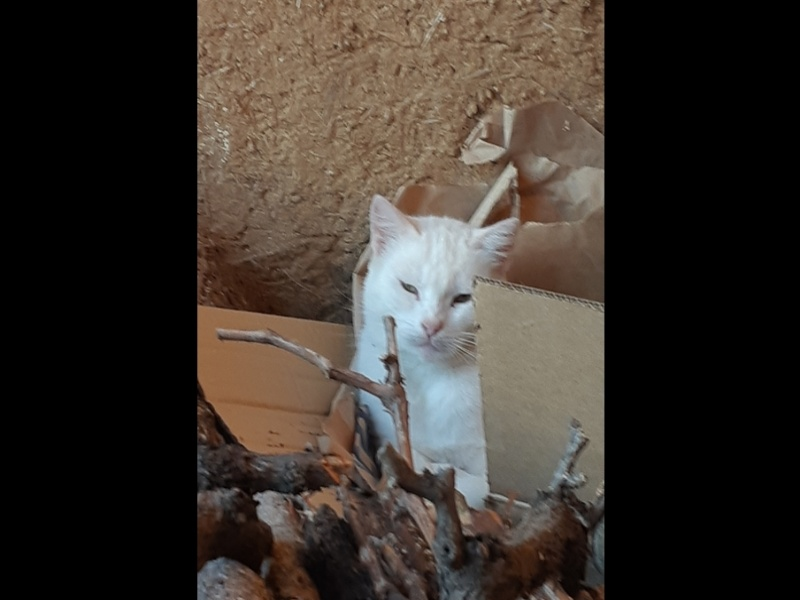cat: (341, 191, 523, 502)
